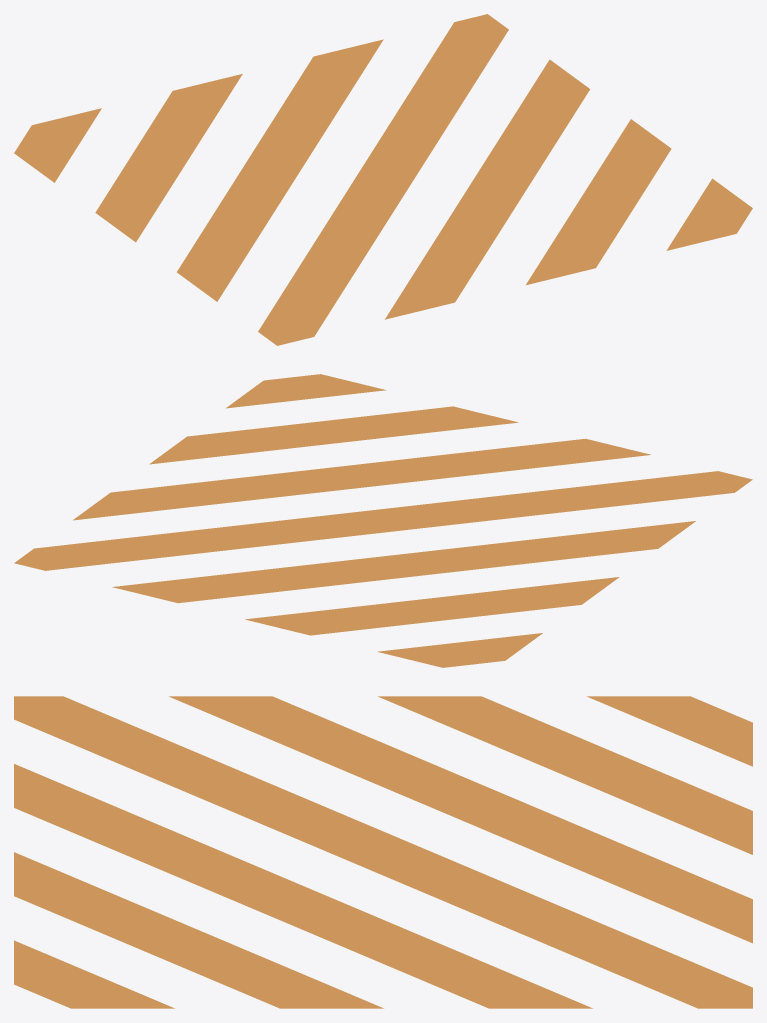
The model's file is indicator_special_lines.glb.
3 renders of one model, top to bottom at view 1: azimuth 30°, elevation 25°; view 2: azimuth 150°, elevation 25°; view 3: azimuth 270°, elevation 25°, orthographic. The views are drawn at different scales.
Visible parts, largest first — view 1: indicator-special-lines; view 2: indicator-special-lines; view 3: indicator-special-lines.
Boxes of the visible parts, bbox=[...] form: indicator-special-lines: bbox=[14, 14, 752, 345]; indicator-special-lines: bbox=[14, 374, 752, 667]; indicator-special-lines: bbox=[14, 696, 752, 1008].
Size of the model in its own units: 1 by 0 by 1.
Materials: 1 (1 with a texture image).
